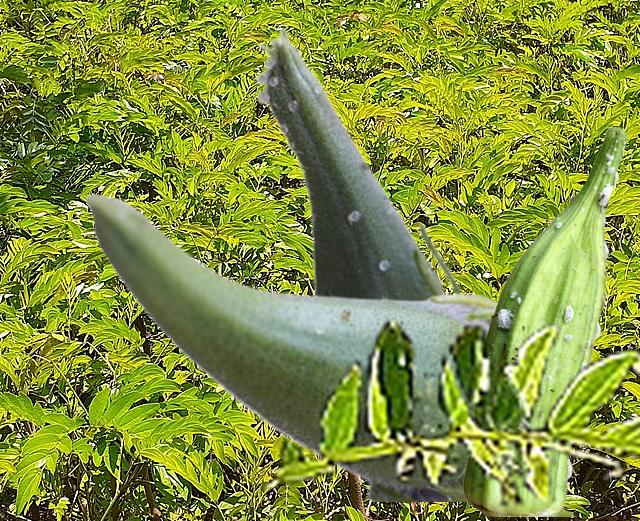okra: (84, 192, 496, 500), (463, 127, 626, 515), (254, 26, 458, 298)
